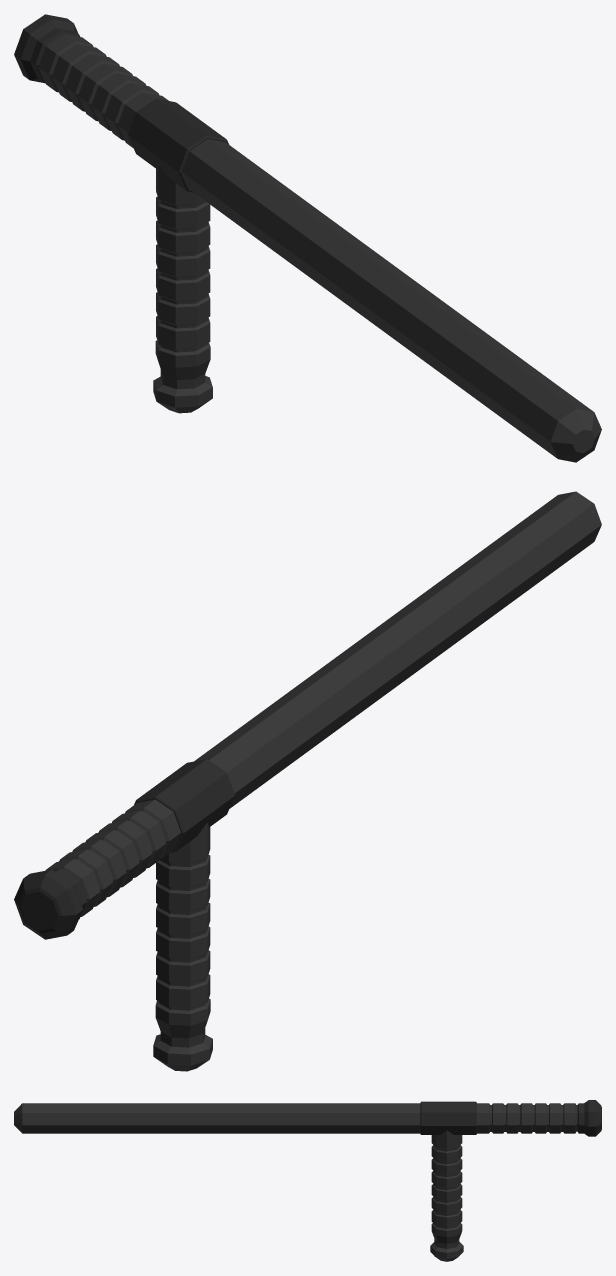
Rendered from Tonfa_A.fbx.
The picture shows the model from 3 angles, top to bottom: view 1: azimuth 30°, elevation 25°; view 2: azimuth 150°, elevation 25°; view 3: azimuth 270°, elevation 25°; orthographic projection. The views are drawn at different scales.
Visible parts, largest first — view 1: Tonfa_A; view 2: Tonfa_A; view 3: Tonfa_A.
Part boxes in pixels (left/top/right/bottom): Tonfa_A: left=14, top=14, right=601, bottom=462; Tonfa_A: left=14, top=491, right=601, bottom=1071; Tonfa_A: left=14, top=1100, right=601, bottom=1261.
Size of the model in its own units: 0.0405 by 0.1812 by 0.6106.
